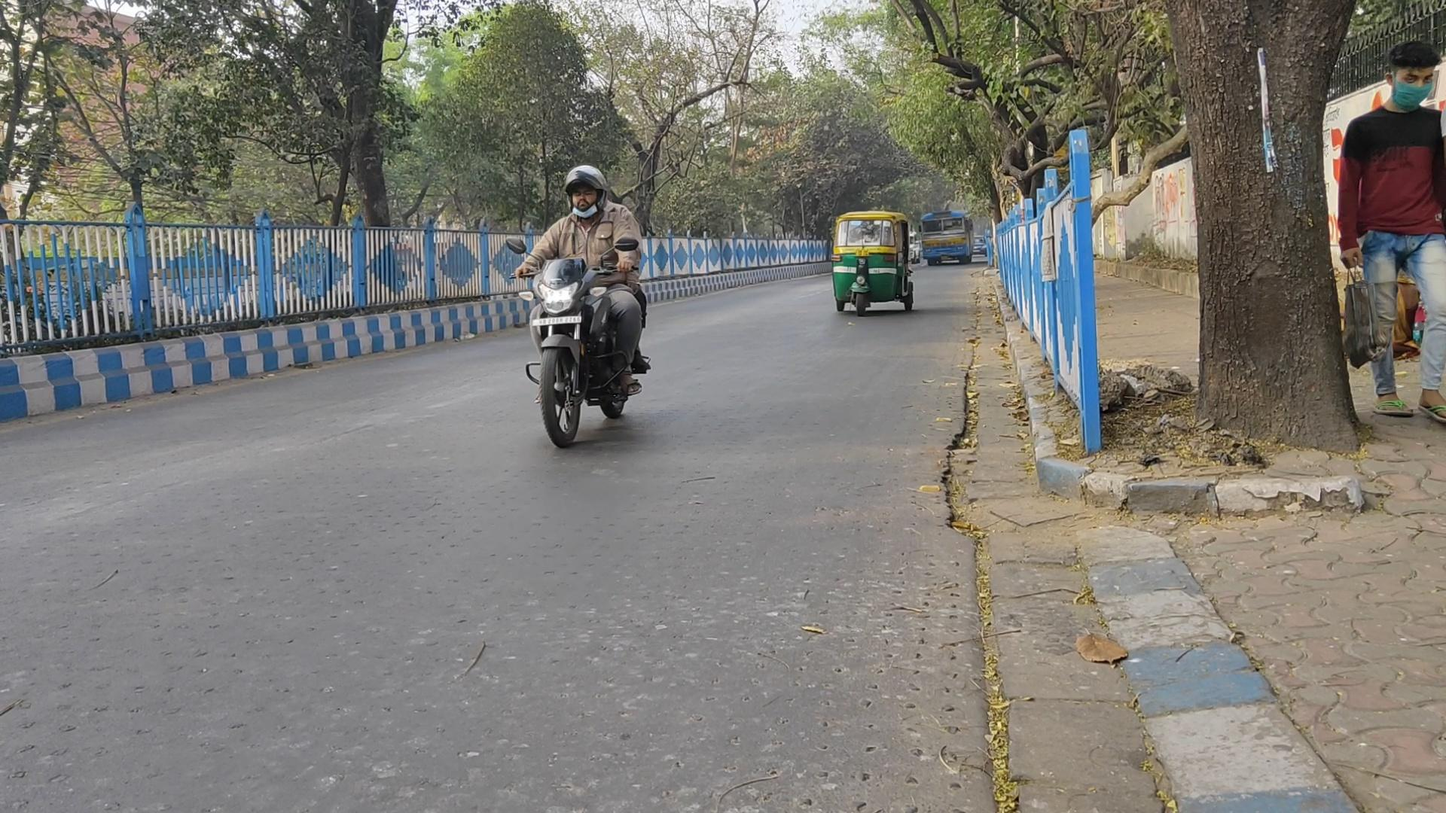Auto: (830, 210, 914, 317)
Bus: (919, 209, 975, 266)
bike: (506, 164, 652, 449)
